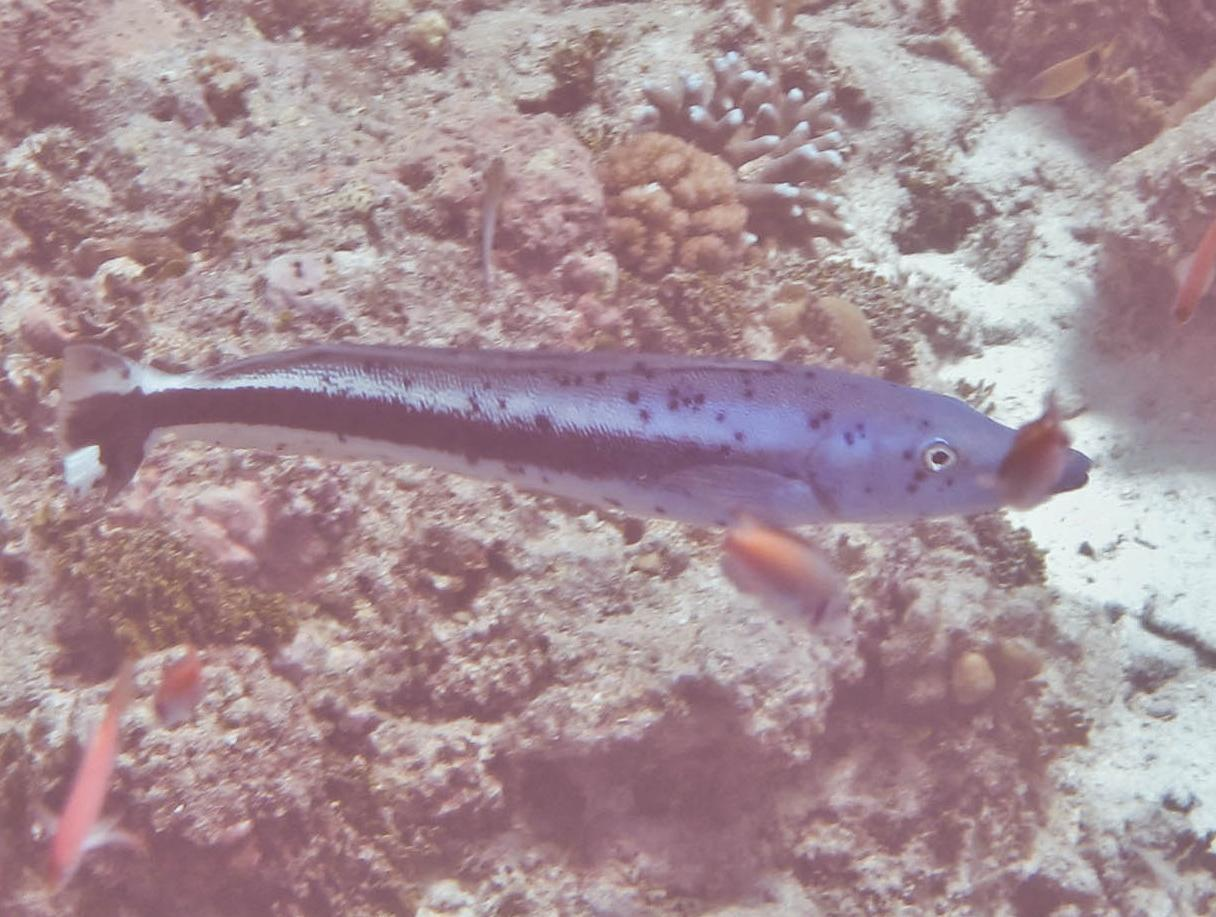Fish: (4, 282, 1113, 594)
